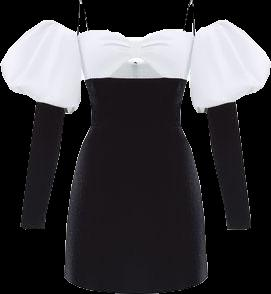Bodice: (77, 29, 194, 131)
Hemline: (63, 275, 209, 293)
Neckline: (78, 27, 194, 39), (82, 74, 187, 80)
Skirt: (64, 127, 207, 293)
Sleeve: (187, 20, 270, 229), (0, 20, 83, 228)
Sleeveline: (183, 19, 223, 81), (45, 19, 85, 78), (203, 99, 236, 112), (34, 100, 68, 112)
Waistline: (88, 125, 182, 133)
